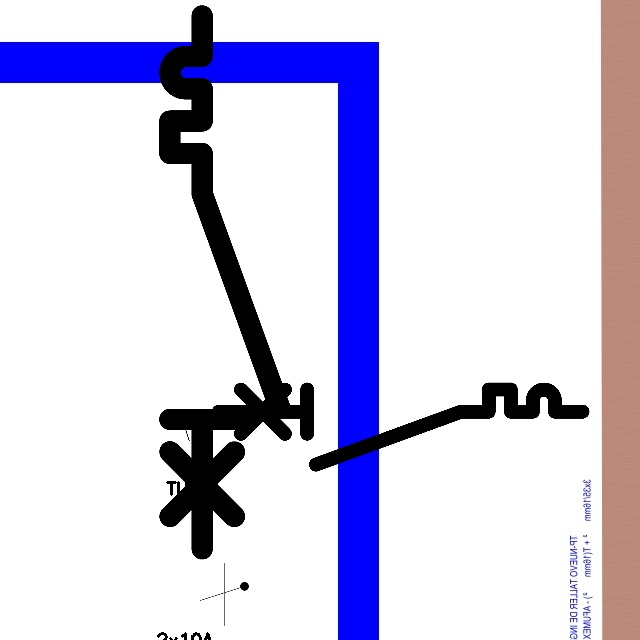interruptor_termomagnetico: (156, 2, 293, 563), (209, 380, 592, 473)
